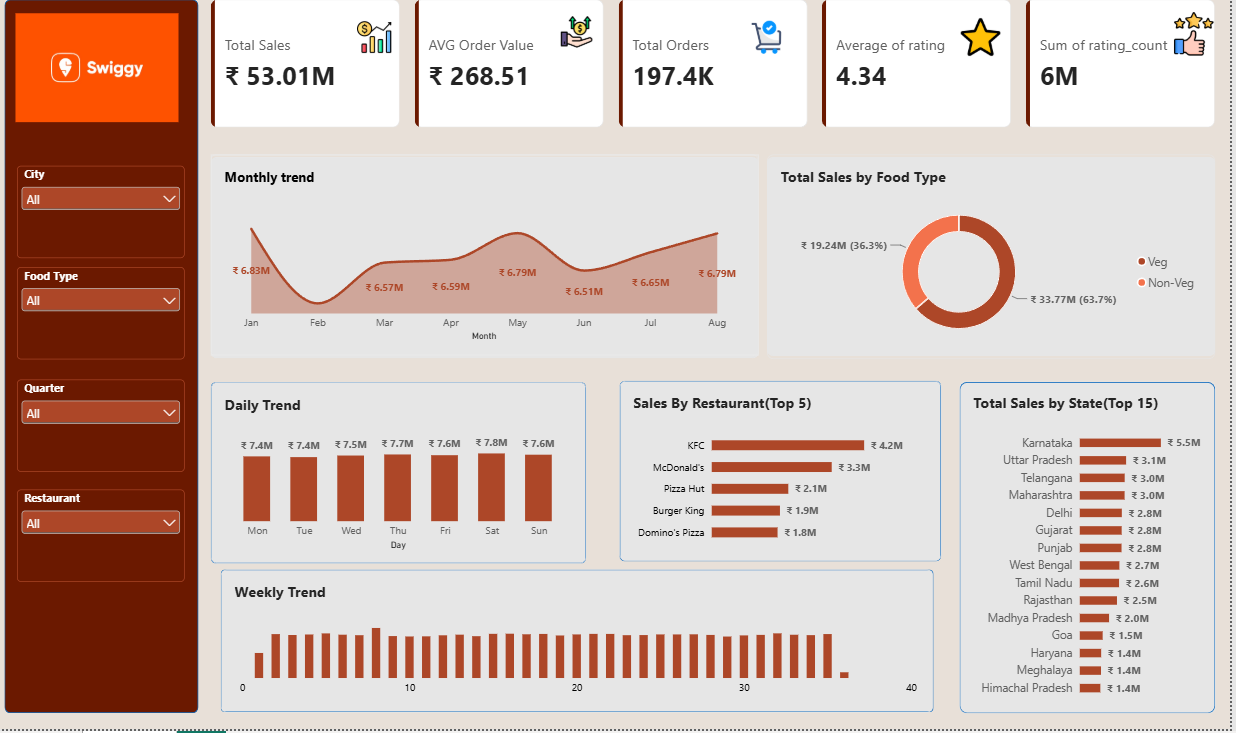

The dashboard page shown, as its layout file describes it:
{"tool":"powerbi","page":{"name":"Page 1","canvas":[1500,900],"ordinal":0},"visuals":[{"type":"shape","box":[14.5,14.5,235,865],"z":0},{"type":"cardVisual","fields":{"Data":["fact_orders.Total Sales","fact_orders.AVG Order Value","fact_orders.Total Orders","Avg(fact_orders.rating)","Sum(fact_orders.rating_count)"]},"box":[265.3,14.5,1217,155],"z":1000},{"type":"image","box":[442.2,30.6,41.8,61.1],"z":2000},{"type":"image","box":[689.9,28.9,38.6,51.5],"z":3000},{"type":"image","box":[908.6,40.2,59.5,40.2],"z":4000},{"type":"image","box":[1173.9,32.2,48.2,57.9],"z":5000},{"type":"image","box":[1429.6,28.9,53.1,56.3],"z":6000},{"type":"image","box":[6.4,32.2,242.8,131.9],"z":7000},{"type":"shape","box":[265.3,205.8,664,244],"z":8000},{"type":"shape","box":[939.1,205.8,543.5,241.2],"z":9000},{"type":"donutChart","fields":{"Category":["dim_dish.Food Type"],"Y":["fact_orders.Total Sales"]},"box":[939.1,202.6,543.5,247.6],"z":10000},{"type":"shape","box":[265.3,479.2,455,220],"z":11000},{"type":"columnChart","title":"Daily Trend","fields":{"Category":["dim_date.Day"],"Y":["fact_orders.Total Sales"]},"box":[265.3,479.2,455.1,220.3],"z":12000},{"type":"shape","box":[760.6,477.6,390,219],"z":13000},{"type":"barChart","title":"Sales By Restaurant(Top 5)","fields":{"Category":["dim_restaurant.restaurant_name"],"Y":["fact_orders.Total Sales"]},"box":[760,476.7,390,218.3],"z":14000},{"type":"shape","box":[1173.3,478.3,310,401.7],"z":15000},{"type":"barChart","title":"Total Sales by State(Top 15)","fields":{"Category":["dim_location.state"],"Y":["fact_orders.Total Sales"]},"box":[1173.3,476.7,310,403.3],"z":16000},{"type":"shape","box":[276.7,706.7,864,173],"z":17000},{"type":"columnChart","title":"Weekly Trend","fields":{"Category":["dim_date.Week Number"],"Y":["fact_orders.Total Sales"]},"box":[276.7,706.7,863.3,173.3],"z":18000},{"type":"stackedAreaChart","title":"Monthly trend","fields":{"Category":["dim_date.Month"],"Y":["fact_orders.Total Sales"]},"box":[265,203.3,663.3,243.3],"z":19000},{"type":"slicer","fields":{"Values":["dim_location.city"]},"box":[30,216.7,203.3,111.7],"z":20000},{"type":"slicer","fields":{"Values":["dim_dish.Food Type"]},"box":[30,340,203.3,111.7],"z":20001},{"type":"slicer","fields":{"Values":["dim_date.Quarter"]},"box":[30,475,203.3,111.7],"z":20002},{"type":"slicer","fields":{"Values":["dim_restaurant.restaurant_name"]},"box":[30,608.3,203.3,111.7],"z":20003}]}

Visuals, with their boxes in screenshot pixels (x1, y1, x2, y2), scaled from the page's 1500x900 canvas onto the 1236x733 screenshot:
shape: crop(12, 12, 206, 716)
cardVisual - fact_orders.Total Sales x fact_orders.AVG Order Value: crop(219, 12, 1221, 138)
image: crop(364, 25, 399, 75)
image: crop(568, 24, 600, 65)
image: crop(749, 33, 798, 65)
image: crop(967, 26, 1007, 73)
image: crop(1178, 24, 1222, 69)
image: crop(5, 26, 205, 134)
shape: crop(219, 168, 766, 366)
shape: crop(774, 168, 1222, 364)
donutChart - dim_dish.Food Type x fact_orders.Total Sales: crop(774, 165, 1222, 367)
shape: crop(219, 390, 594, 569)
"Daily Trend" columnChart: crop(219, 390, 594, 570)
shape: crop(627, 389, 948, 567)
"Sales By Restaurant(Top 5)" barChart: crop(626, 388, 948, 566)
shape: crop(967, 390, 1222, 717)
"Total Sales by State(Top 15)" barChart: crop(967, 388, 1222, 717)
shape: crop(228, 576, 940, 716)
"Weekly Trend" columnChart: crop(228, 576, 939, 717)
"Monthly trend" stackedAreaChart: crop(218, 166, 765, 364)
slicer - dim_location.city: crop(25, 176, 192, 267)
slicer - dim_dish.Food Type: crop(25, 277, 192, 368)
slicer - dim_date.Quarter: crop(25, 387, 192, 478)
slicer - dim_restaurant.restaurant_name: crop(25, 495, 192, 586)
